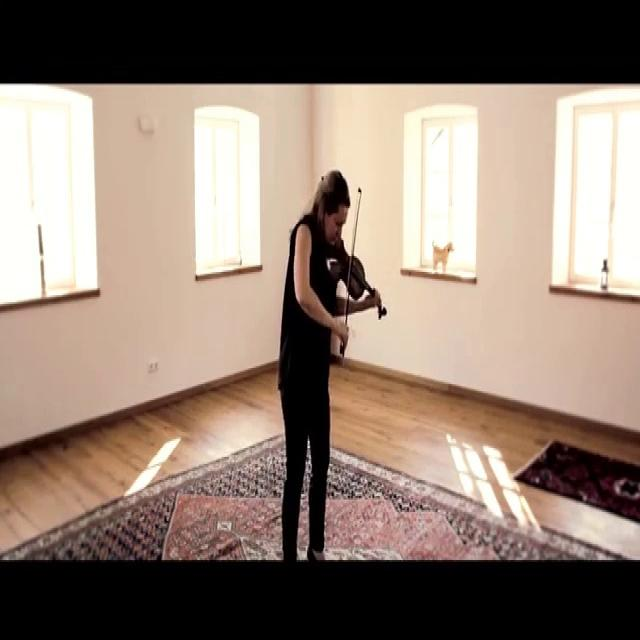Violin: (327, 231, 393, 330)
